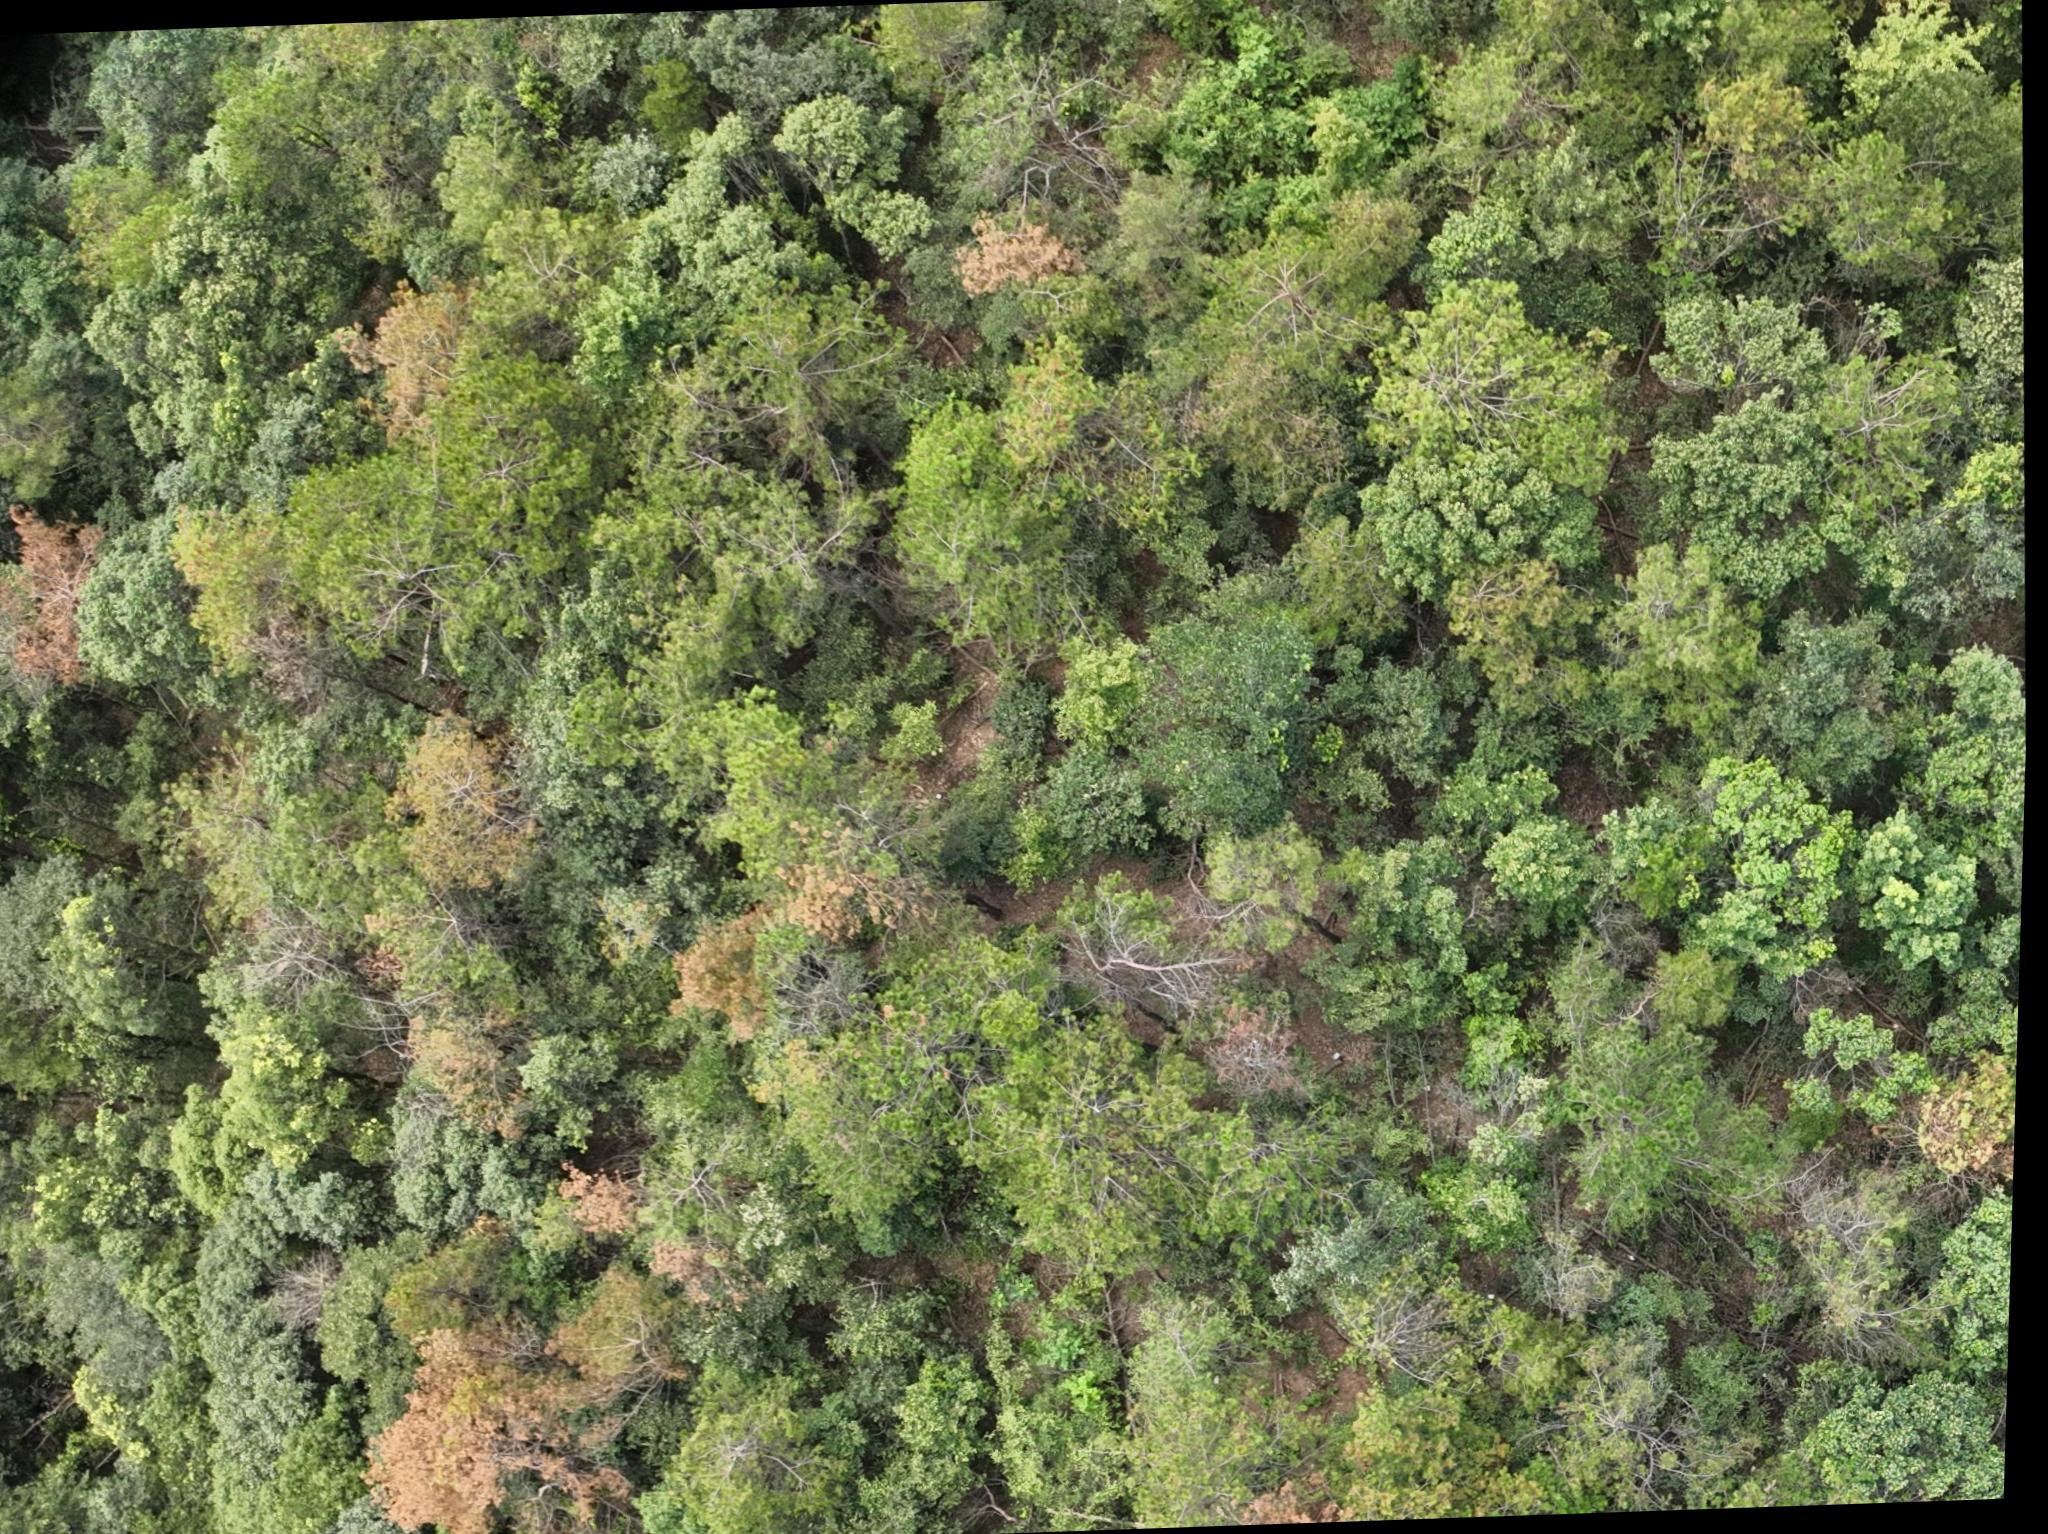heavy: (374, 1313, 622, 1534), (0, 490, 135, 688), (340, 269, 485, 443), (778, 844, 938, 946), (951, 211, 1091, 298), (1215, 1002, 1308, 1102)
light: (392, 707, 548, 894), (174, 503, 285, 682), (999, 327, 1102, 472), (1921, 1055, 2024, 1183)
